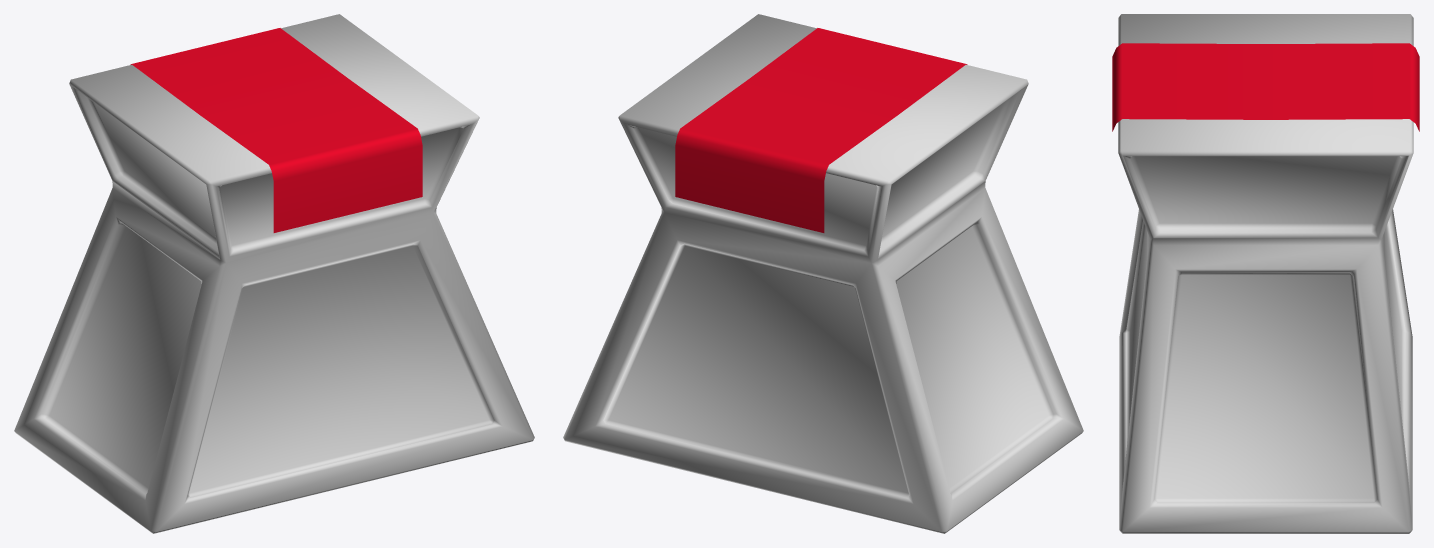
The model's file is Altar.fbx.
3 views of the same model, side by side, from view 1: azimuth 30°, elevation 25°; view 2: azimuth 150°, elevation 25°; view 3: azimuth 270°, elevation 25° (orthographic). The views are drawn at different scales.
Visible parts, largest first — view 1: Altar, pano; view 2: Altar, pano; view 3: Altar, pano.
Boxes of the visible parts, left/top/right/bottom form: Altar: left=14, top=14, right=534, bottom=533; pano: left=130, top=28, right=422, bottom=232; Altar: left=563, top=14, right=1083, bottom=533; pano: left=675, top=28, right=967, bottom=232; Altar: left=1118, top=14, right=1413, bottom=533; pano: left=1112, top=43, right=1419, bottom=131.
Bounding box in the file's own units: 118 × 101 × 78.69.
